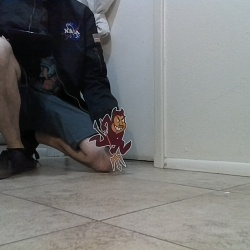sparky: (87, 105, 132, 172)
